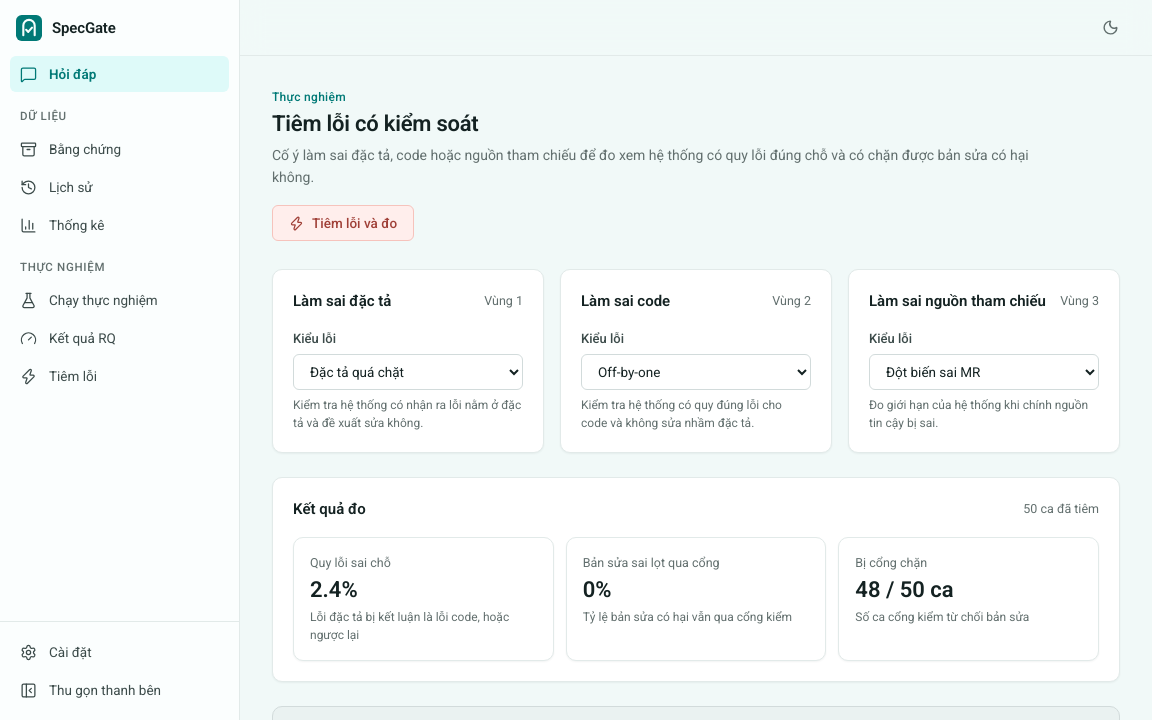
Test case: Fault Injection Dashboard UI › reports 501 as an unavailable engine instead of fabricating metrics
expect the element with test id "fault-zone-1" is shown: met, box [272, 269, 544, 453]
Click the button with test id "run-injection-btn".
click(343, 223)  # box [272, 205, 414, 241]
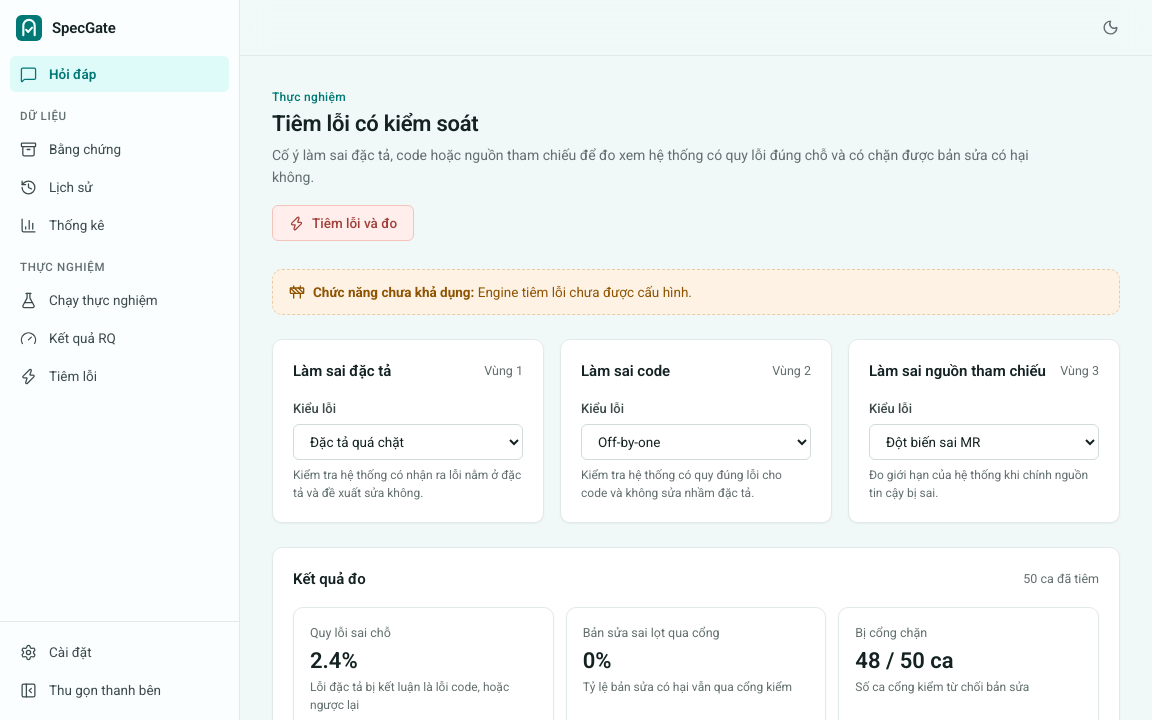
expect the text with test id "metric-misattribution-rate" reads "2.4%": met, box [310, 648, 358, 672]
expect the message with test id "feature-unavailable" shows "Engine tiêm lỗi chưa được cấu hình.": met, box [478, 284, 692, 300]
